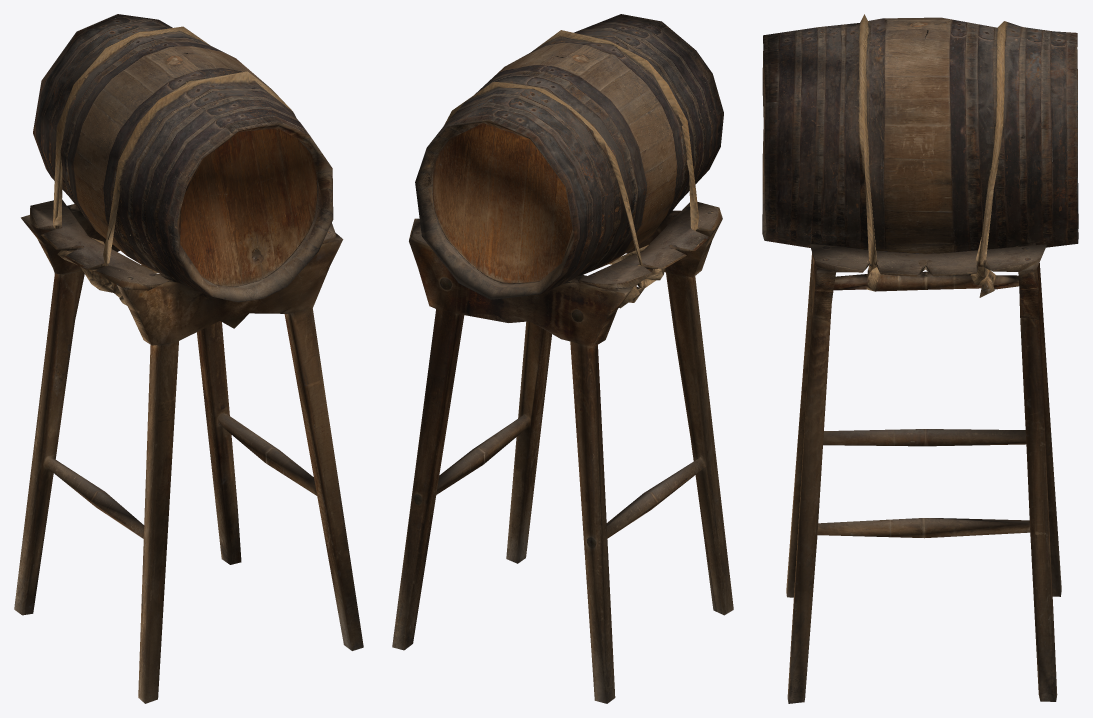
File: SM_Barrel_01.fbx
3 views of the same model, side by side, from view 1: azimuth 30°, elevation 25°; view 2: azimuth 150°, elevation 25°; view 3: azimuth 270°, elevation 25° (orthographic). The views are drawn at different scales.
Visible parts, largest first — view 1: SM_Barrel_01; view 2: SM_Barrel_01; view 3: SM_Barrel_01.
Boxes of the visible parts, <box> form: SM_Barrel_01: <box>14,14,363,703</box>; SM_Barrel_01: <box>392,14,733,703</box>; SM_Barrel_01: <box>762,14,1078,703</box>.
Size of the model in its own units: 61.53 by 136 by 63.07.
